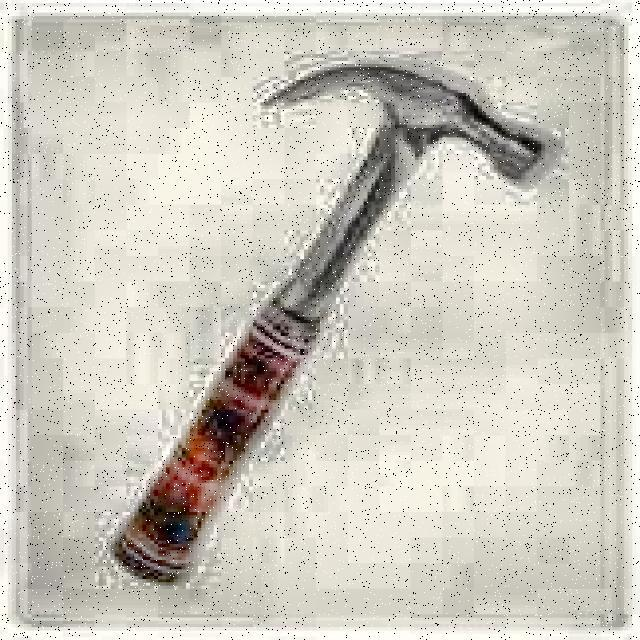hammer: (104, 57, 554, 589)
